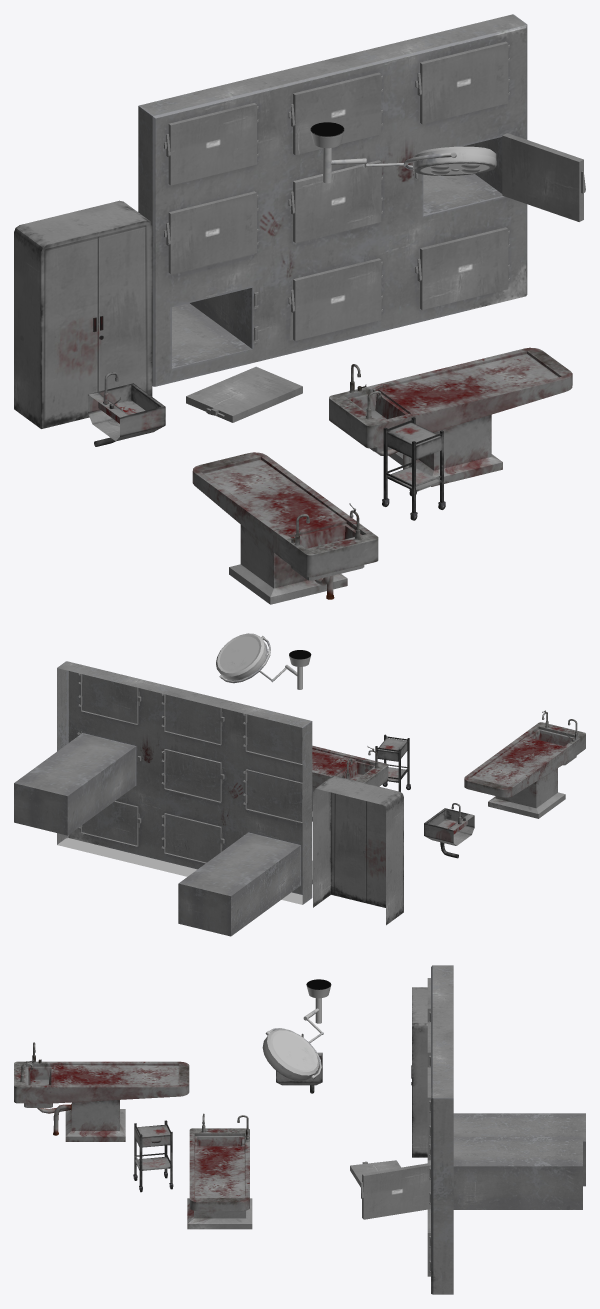
The model's file is morgue_furniture.glb.
3 views of the same model, one above another, from view 1: azimuth 30°, elevation 25°; view 2: azimuth 150°, elevation 25°; view 3: azimuth 270°, elevation 25° (orthographic). The views are drawn at different scales.
Visible parts, largest first — view 1: morgue_LockerWall, morgue_LockerDoors, morgue_LargeSet, morgue_Walls_Floor_AutopsyTable, morgue_SmallGroup; view 2: morgue_LockerWall, morgue_LargeSet, morgue_Walls_Floor_AutopsyTable, morgue_SmallGroup, morgue_LockerDoors; view 3: morgue_LockerWall, morgue_Walls_Floor_AutopsyTable, morgue_LargeSet, morgue_LockerDoors, morgue_SmallGroup.
Part boxes in pixels (x1=…): morgue_LockerWall: x1=138, y1=14, x2=527, y2=386; morgue_LockerDoors: x1=164, y1=41, x2=585, y2=422; morgue_LargeSet: x1=14, y1=200, x2=445, y2=520; morgue_Walls_Floor_AutopsyTable: x1=192, y1=347, x2=572, y2=604; morgue_SmallGroup: x1=310, y1=122, x2=496, y2=183; morgue_LockerWall: x1=14, y1=661, x2=312, y2=936; morgue_LargeSet: x1=313, y1=734, x2=474, y2=925; morgue_Walls_Floor_AutopsyTable: x1=312, y1=710, x2=585, y2=821; morgue_SmallGroup: x1=216, y1=633, x2=311, y2=689; morgue_LockerDoors: x1=77, y1=673, x2=312, y2=884; morgue_LockerWall: x1=431, y1=965, x2=585, y2=1294; morgue_Walls_Floor_AutopsyTable: x1=14, y1=1042, x2=252, y2=1229; morgue_LargeSet: x1=133, y1=987, x2=427, y2=1192; morgue_LockerDoors: x1=350, y1=978, x2=430, y2=1276; morgue_SmallGroup: x1=262, y1=979, x2=331, y2=1081.
Bounding box in the file's own units: 5.4 × 2.91 × 7.
Materials: 5 (5 with a texture image).
